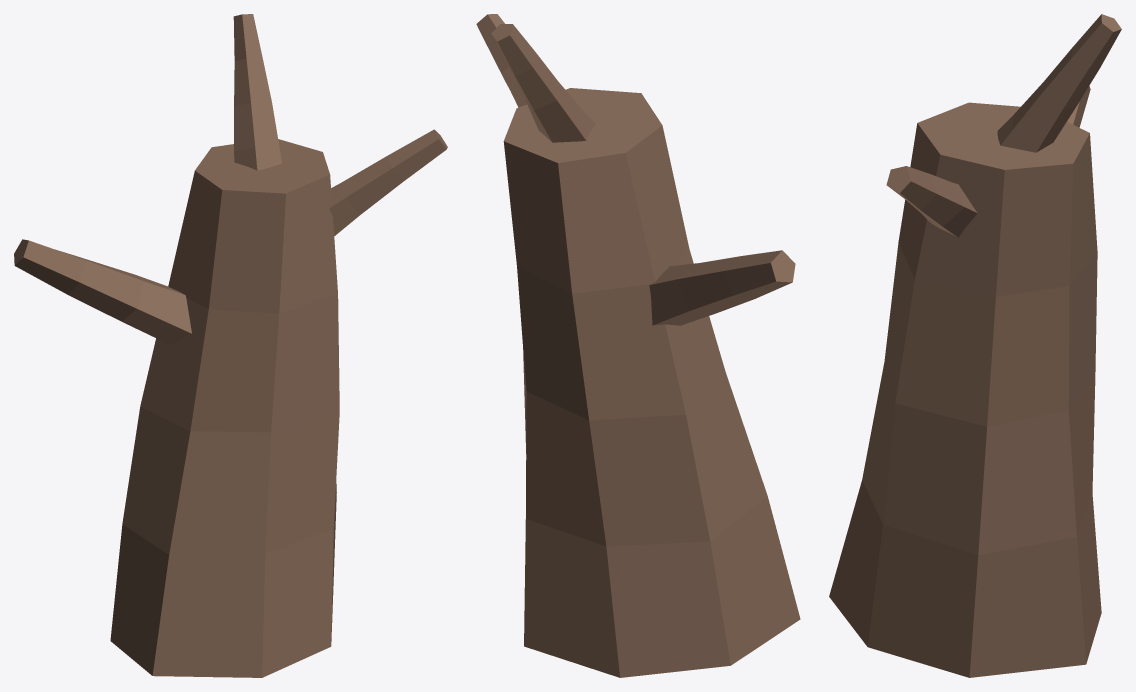
The model's file is 28_Tree_Dead.glb.
The picture shows the model from 3 angles, left to right: view 1: azimuth 30°, elevation 25°; view 2: azimuth 150°, elevation 25°; view 3: azimuth 270°, elevation 25°; orthographic projection. The views are drawn at different scales.
Visible parts, largest first — view 1: DeadTree_Trunk, DeadTree_Branch1, DeadTree_Branch3, DeadTree_Branch2; view 2: DeadTree_Trunk, DeadTree_Branch1, DeadTree_Branch3, DeadTree_Branch2; view 3: DeadTree_Trunk, DeadTree_Branch3, DeadTree_Branch2.
Part boxes in pixels (x1=…): DeadTree_Trunk: x1=110, y1=139, x2=339, y2=677; DeadTree_Branch1: x1=14, y1=239, x2=191, y2=345; DeadTree_Branch3: x1=233, y1=14, x2=281, y2=170; DeadTree_Branch2: x1=329, y1=129, x2=447, y2=235; DeadTree_Trunk: x1=503, y1=88, x2=800, y2=677; DeadTree_Branch1: x1=649, y1=250, x2=795, y2=325; DeadTree_Branch3: x1=491, y1=24, x2=595, y2=142; DeadTree_Branch2: x1=476, y1=14, x2=526, y2=107; DeadTree_Trunk: x1=829, y1=102, x2=1101, y2=677; DeadTree_Branch3: x1=997, y1=14, x2=1121, y2=152; DeadTree_Branch2: x1=886, y1=166, x2=977, y2=237.
Bounding box in the file's own units: 0.6762 × 1.02 × 0.4149.
